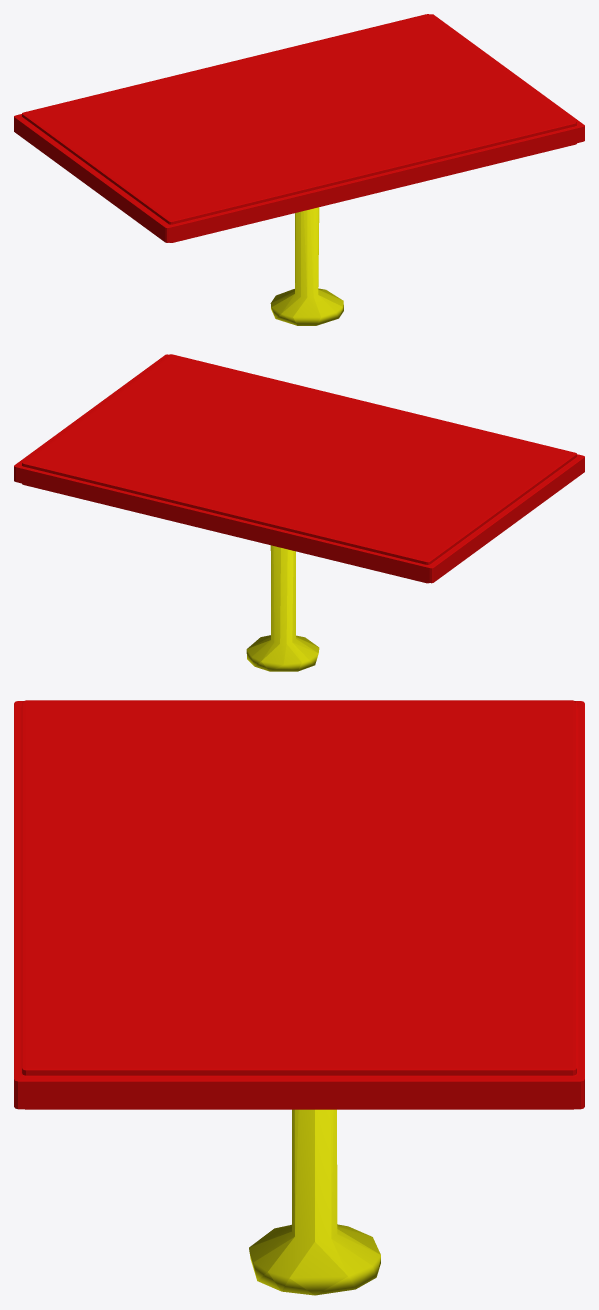
Rendered from SM_Diner_Table.fbx.
3 views of the same model, one above another, from view 1: azimuth 30°, elevation 25°; view 2: azimuth 150°, elevation 25°; view 3: azimuth 270°, elevation 25° (orthographic). The views are drawn at different scales.
Parts seen in each view (by area): view 1: SM_Diner_Table; view 2: SM_Diner_Table; view 3: SM_Diner_Table.
Boxes of the visible parts, bbox=[...] form: SM_Diner_Table: bbox=[14, 14, 584, 325]; SM_Diner_Table: bbox=[14, 354, 584, 671]; SM_Diner_Table: bbox=[14, 700, 584, 1295].
Size of the model in its own units: 73.47 by 33.35 by 46.59.
